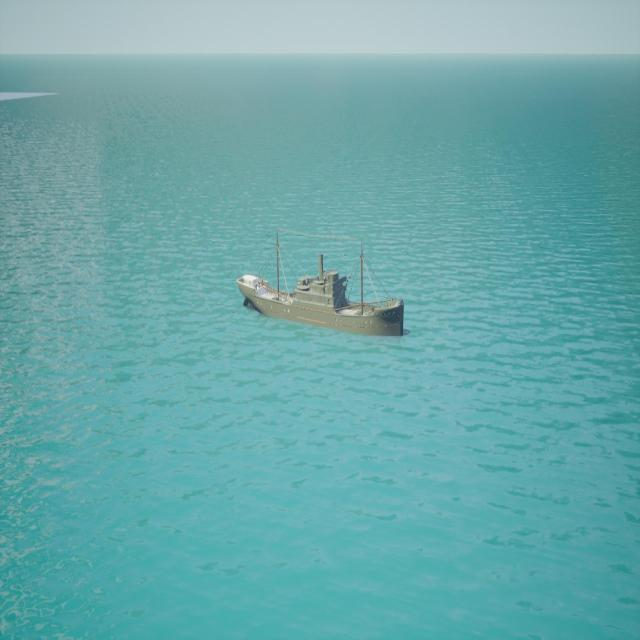fishing ship: (238, 231, 405, 340)
